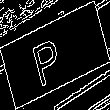P_N: (37, 24, 73, 86)
